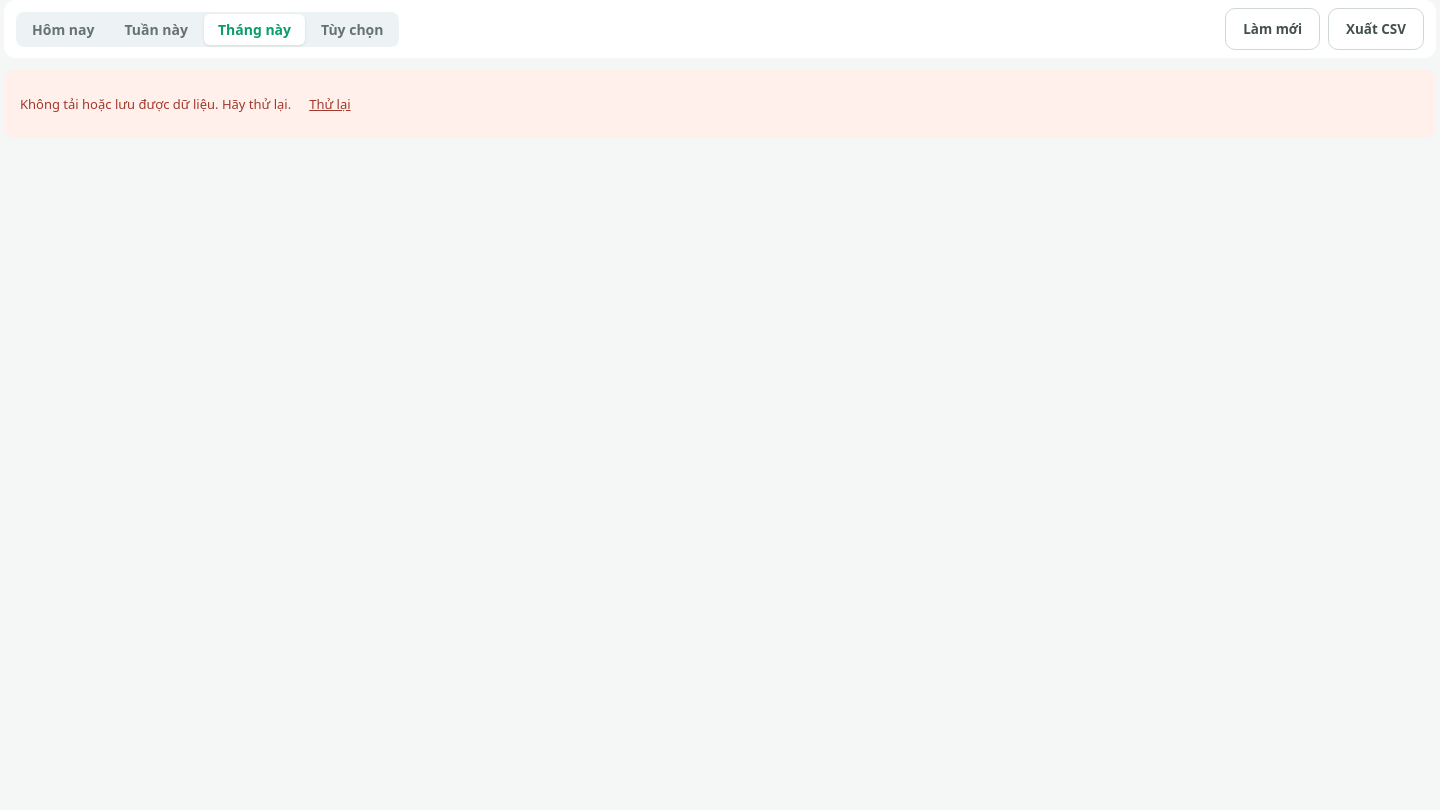
Scenario: displays error alert on API failure and allows retry
Check: the message "Không tải hoặc lưu được dữ liệu. Hãy thử lại. Thử lại" is shown, box left=4, top=70, right=1436, bottom=138
Check: the text "Không tải hoặc lưu được dữ liệu. Hãy thử lại." is shown, box left=20, top=95, right=291, bottom=113
Click the button "Thử lại". click: (330, 104)
box: left=303, top=94, right=357, bottom=114
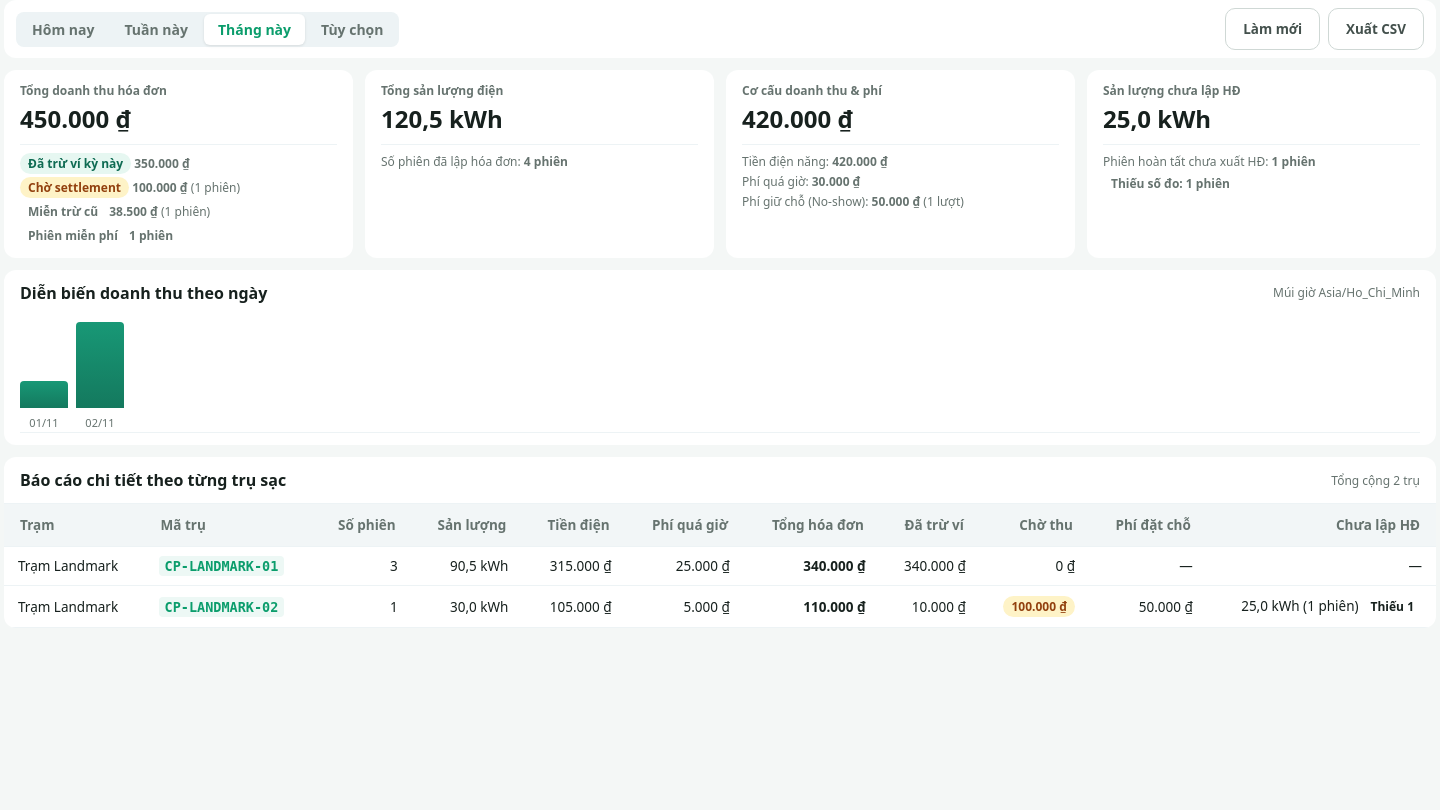
Check: the text "Tổng doanh thu hóa đơn" is shown, box left=20, top=82, right=167, bottom=99
